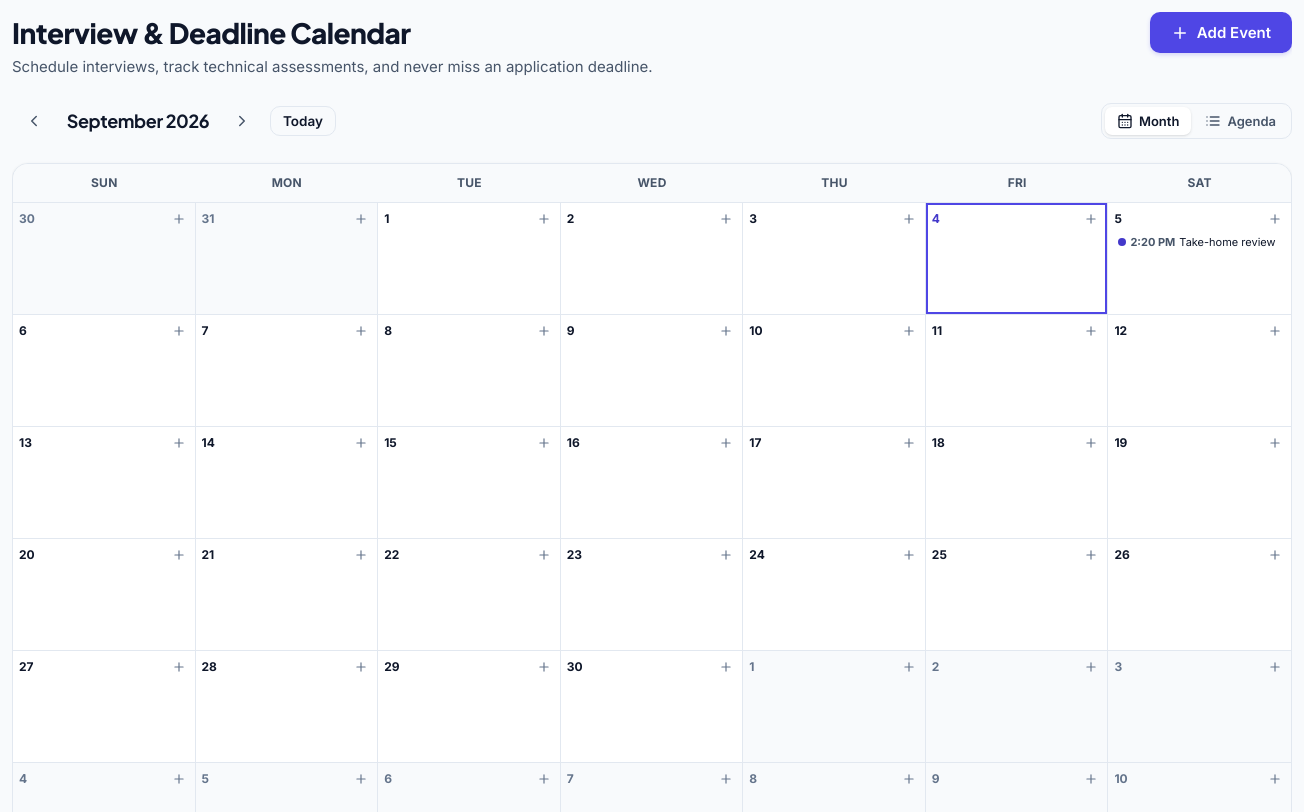
it: the agenda view › switches to a list of upcoming events
The width and height of the screenshot is (1304, 812).
Click the radio button labelled "Agenda". click: (1241, 120)
box: [1193, 106, 1288, 134]
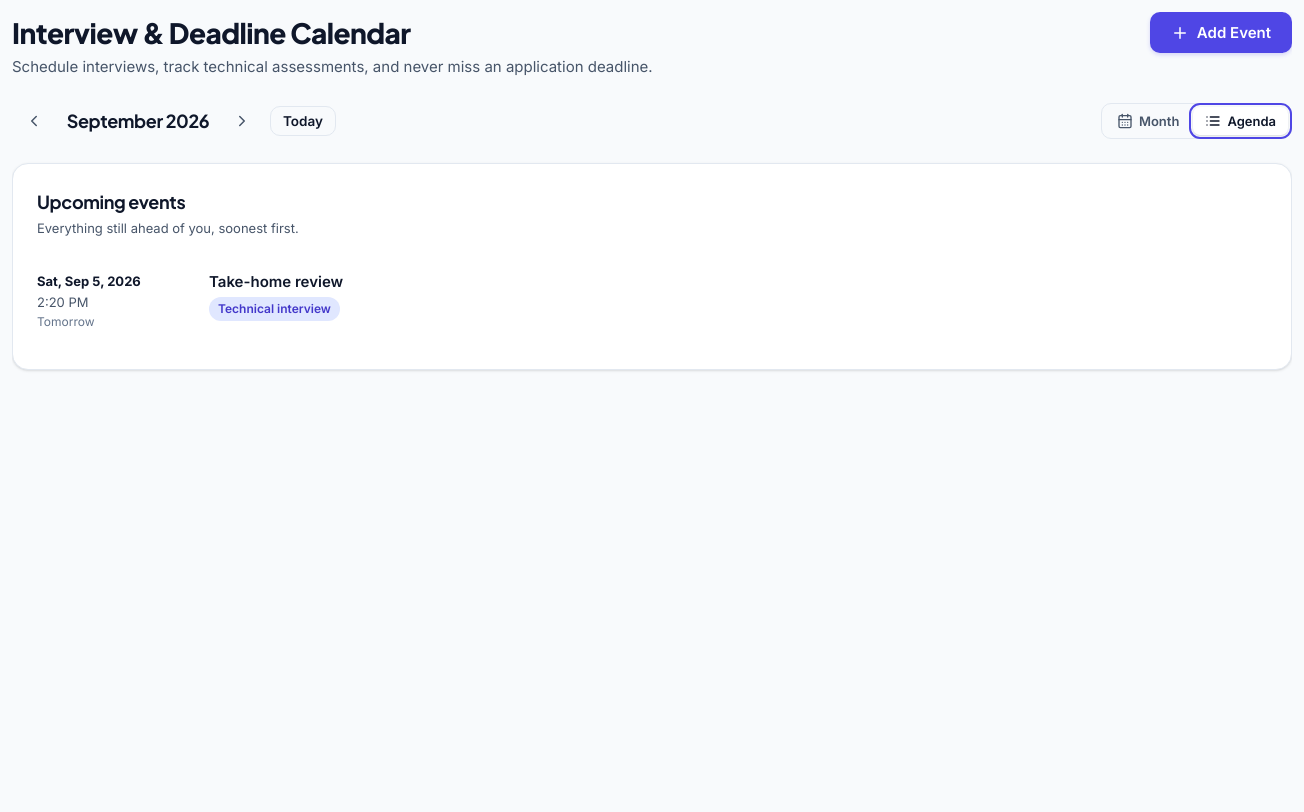
Check: the button "Take-home review" is shown, box [209, 272, 1267, 291]
Check: the heading "Upcoming events" is shown, box [37, 190, 185, 212]
